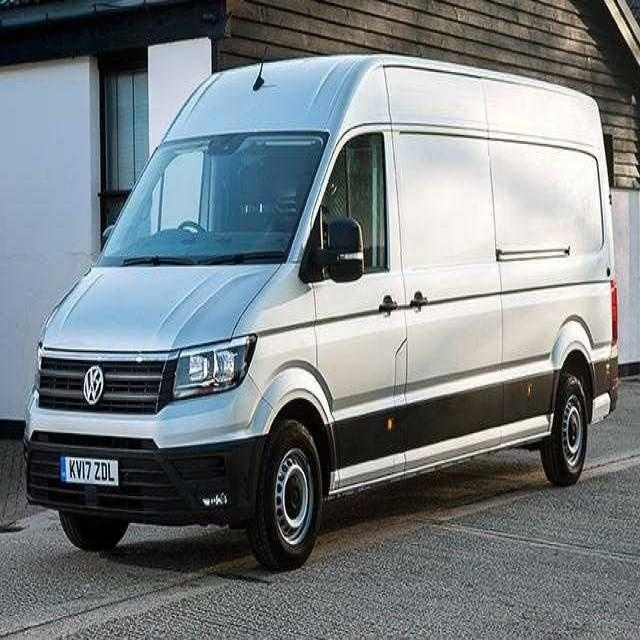Van: (28, 47, 622, 571)
